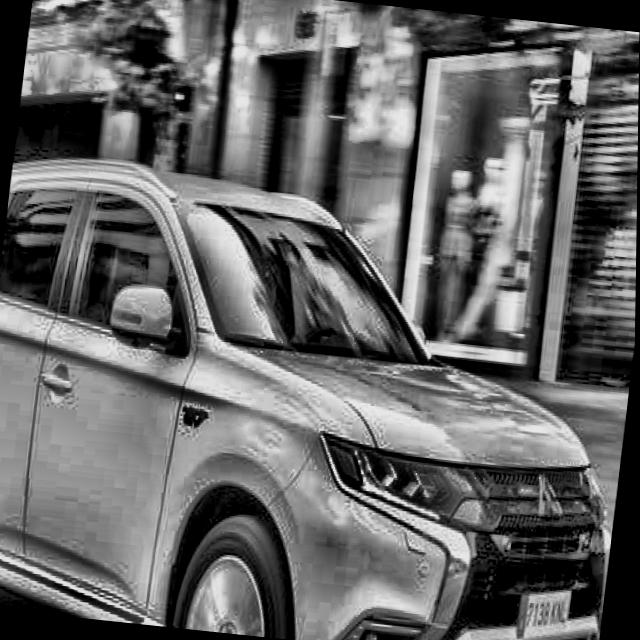light_vehicle: (0, 148, 638, 640)
